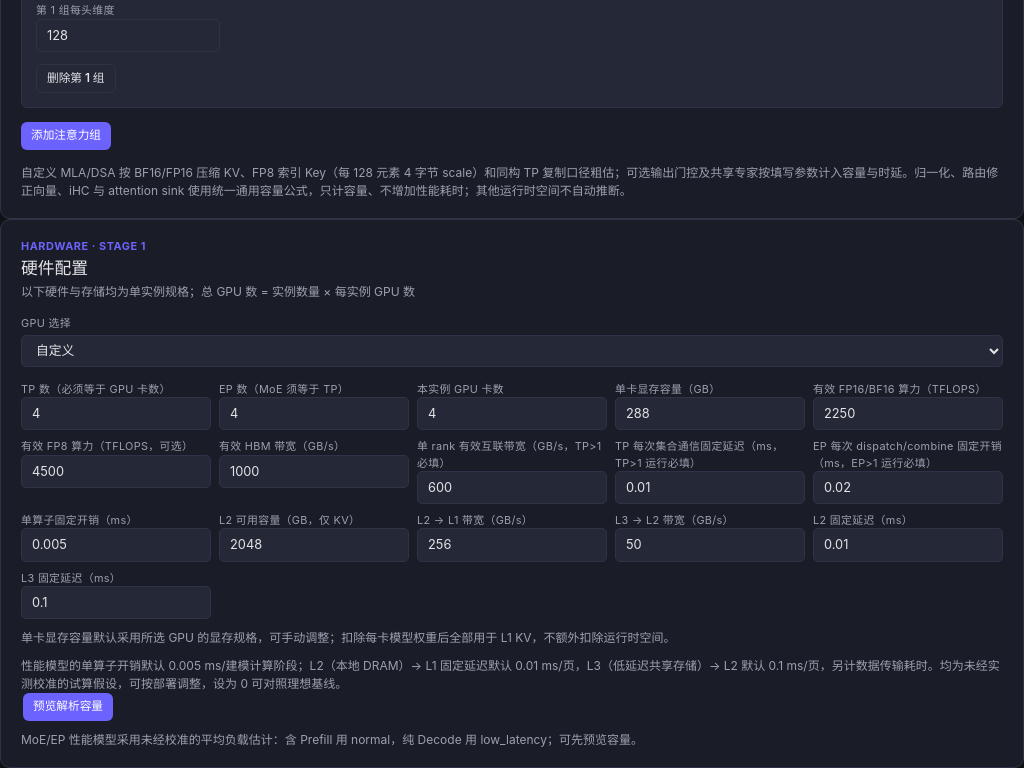
Test: ModelHardwareConfig › shows MoE expert placement in a non-runnable EP capacity preview
The width and height of the screenshot is (1024, 768).
(page scrolled)
What coordinates should you click on to do the following:
click the button "预览解析容量"
I would click on:
 (68, 707)
Its box is [23,693,113,721].
(page scrolled)
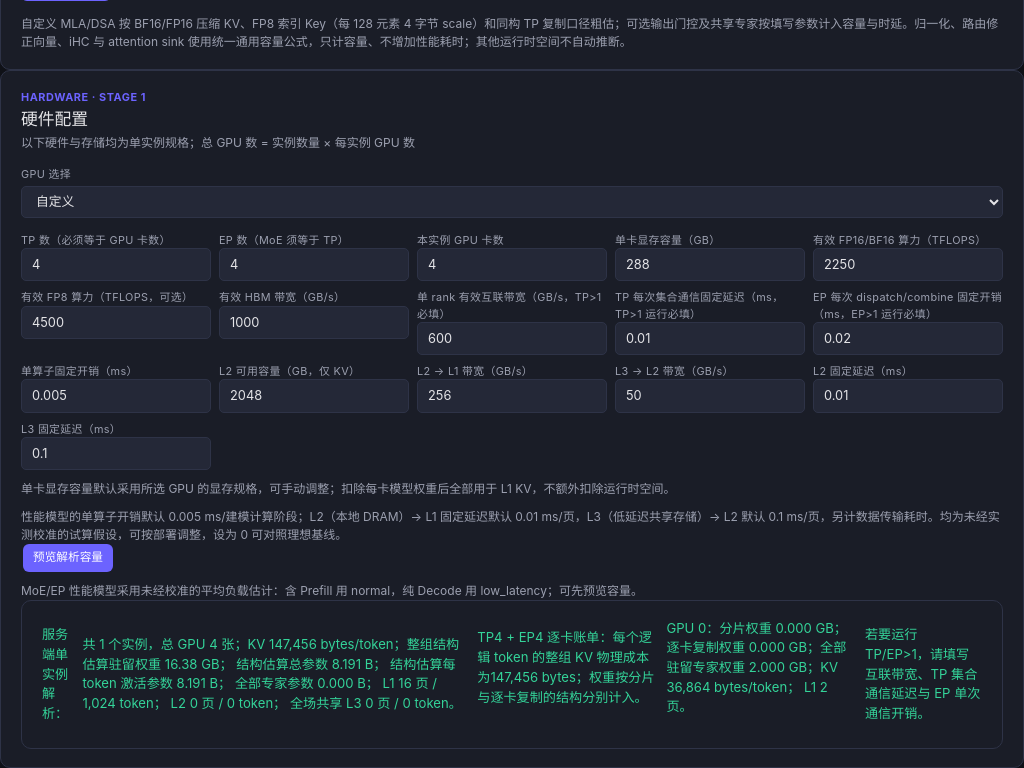
expect the message shows "全部驻留专家权重 2.000 GB": met, box [21,600,1003,749]
expect the message shows "TP4 + EP4": met, box [21,600,1003,749]
expect the message shows "填写互联带宽、TP 集合通信延迟与 EP 单次通信开销": met, box [865,626,980,721]
